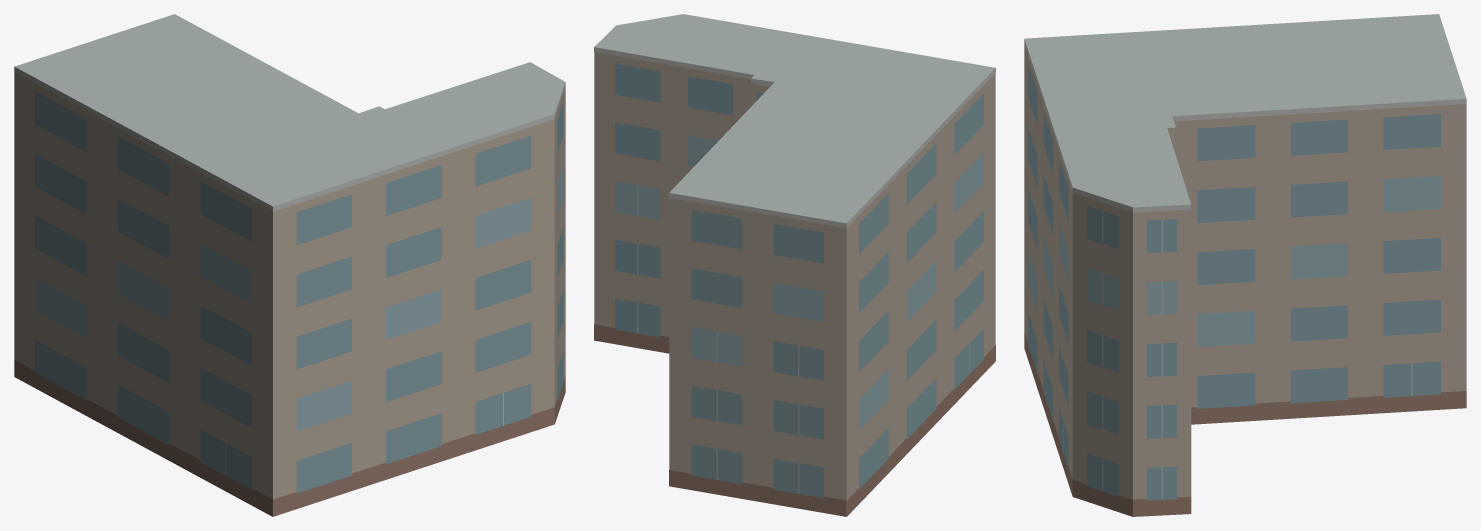
The model's file is survey-upis-32706754.glb.
3 renders of one model, left to right at view 1: azimuth 30°, elevation 25°; view 2: azimuth 150°, elevation 25°; view 3: azimuth 270°, elevation 25°, orthographic. The views are drawn at different scales.
Visible parts, largest first — view 1: survey-upis-32706754.tmp; view 2: survey-upis-32706754.tmp; view 3: survey-upis-32706754.tmp.
Boxes of the visible parts, x1,y1,x2,y2 form: survey-upis-32706754.tmp: (14,14,565,516); survey-upis-32706754.tmp: (594,14,995,516); survey-upis-32706754.tmp: (1024,14,1466,516).
Bounding box in the file's own units: 19.58 × 14.6 × 18.93.
